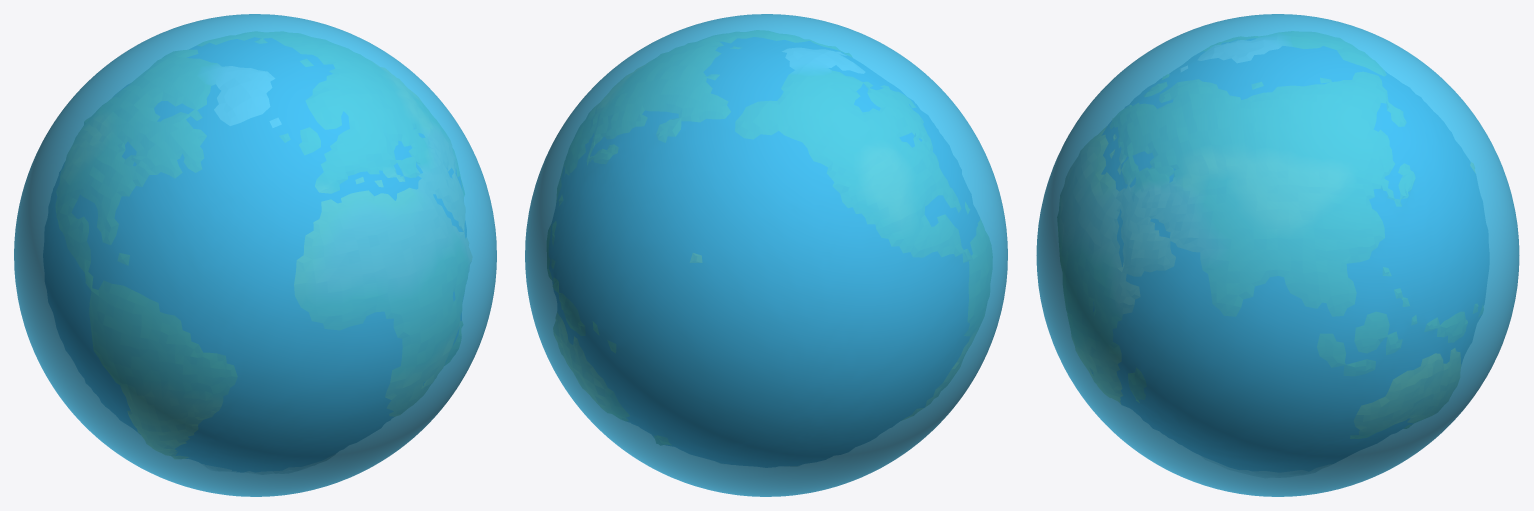
File: earth.gltf
3 renders of one model, left to right at view 1: azimuth 30°, elevation 25°; view 2: azimuth 150°, elevation 25°; view 3: azimuth 270°, elevation 25°, orthographic.
Visible parts, largest first — view 1: __playground; view 2: __playground; view 3: __playground.
Part boxes in pixels (bbox=[...]): __playground: bbox=[14, 14, 496, 496]; __playground: bbox=[525, 14, 1007, 496]; __playground: bbox=[1036, 14, 1519, 496].
Size of the model in its own units: 0.9999 by 0.9999 by 0.9999.
